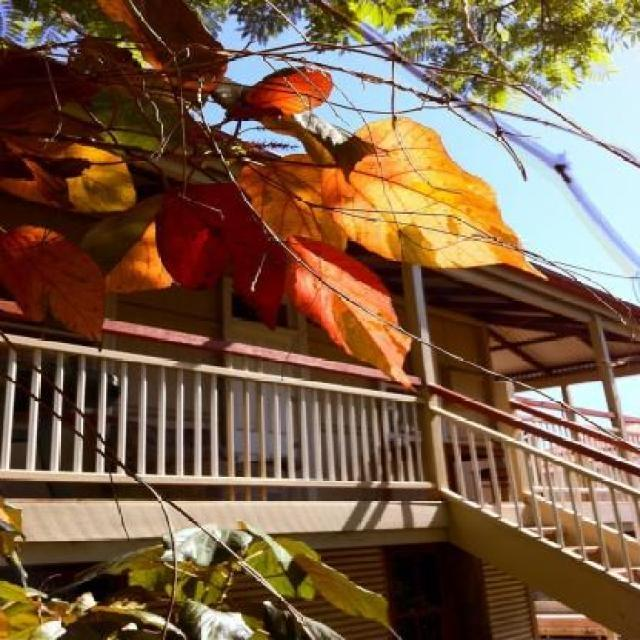stair: (440, 490, 640, 590)
